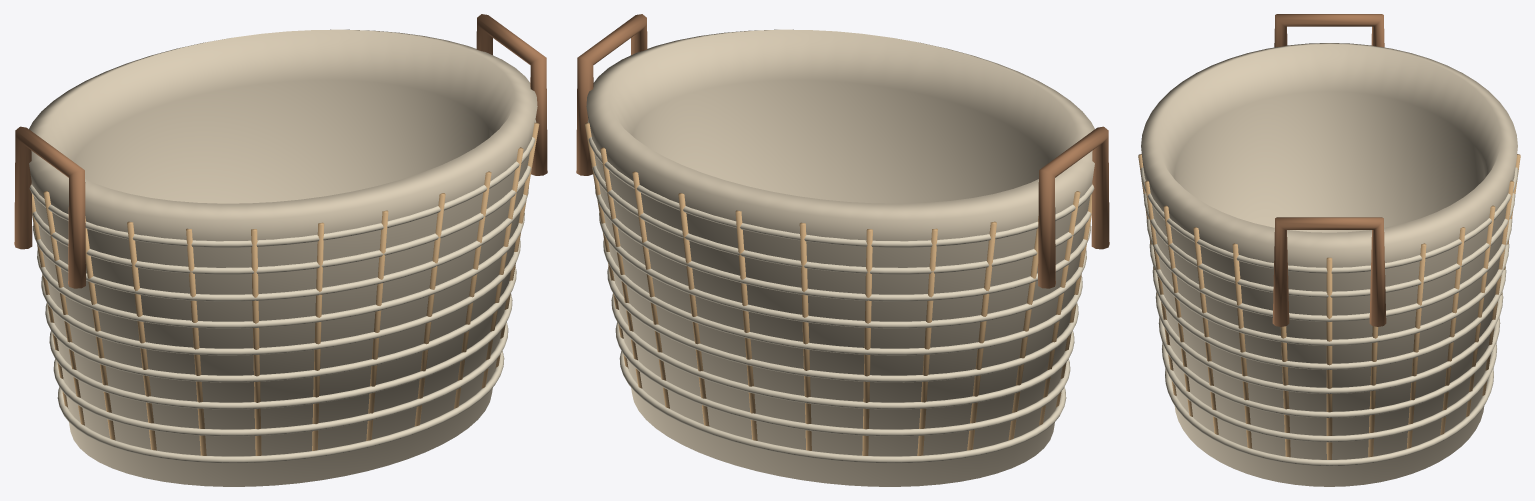
The model's file is Storage_Basket.glb.
The picture shows the model from 3 angles, left to right: view 1: azimuth 30°, elevation 25°; view 2: azimuth 150°, elevation 25°; view 3: azimuth 270°, elevation 25°; orthographic projection. The views are drawn at different scales.
Visible parts, largest first — view 1: Storage_Basket_Mesh; view 2: Storage_Basket_Mesh; view 3: Storage_Basket_Mesh.
Boxes of the visible parts, x1=… form: Storage_Basket_Mesh: x1=14, y1=14, x2=547, y2=486; Storage_Basket_Mesh: x1=576, y1=14, x2=1109, y2=486; Storage_Basket_Mesh: x1=1138, y1=14, x2=1520, y2=486.
Bounding box in the file's own units: 0.298 × 0.1885 × 0.2291.
